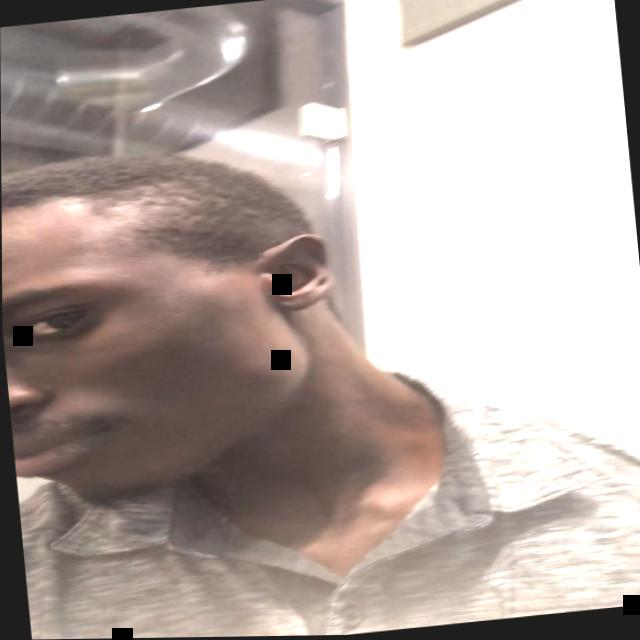NO-Mask: (1, 209, 335, 514)
